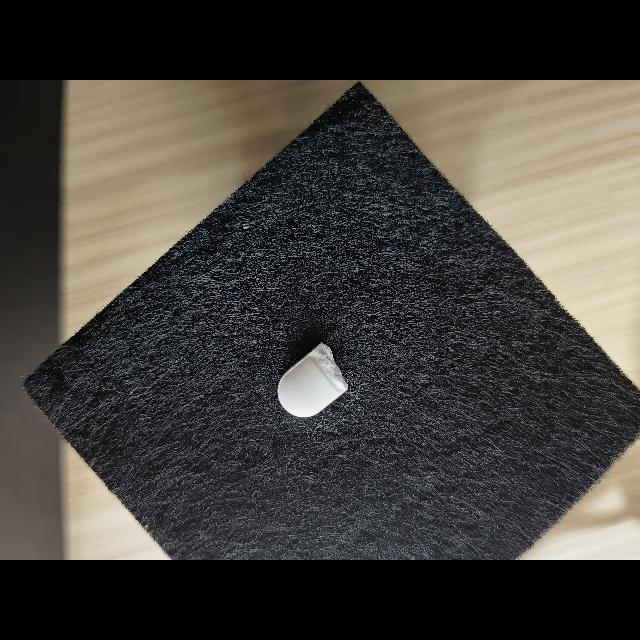Chipped Pill: (278, 342, 348, 418)
